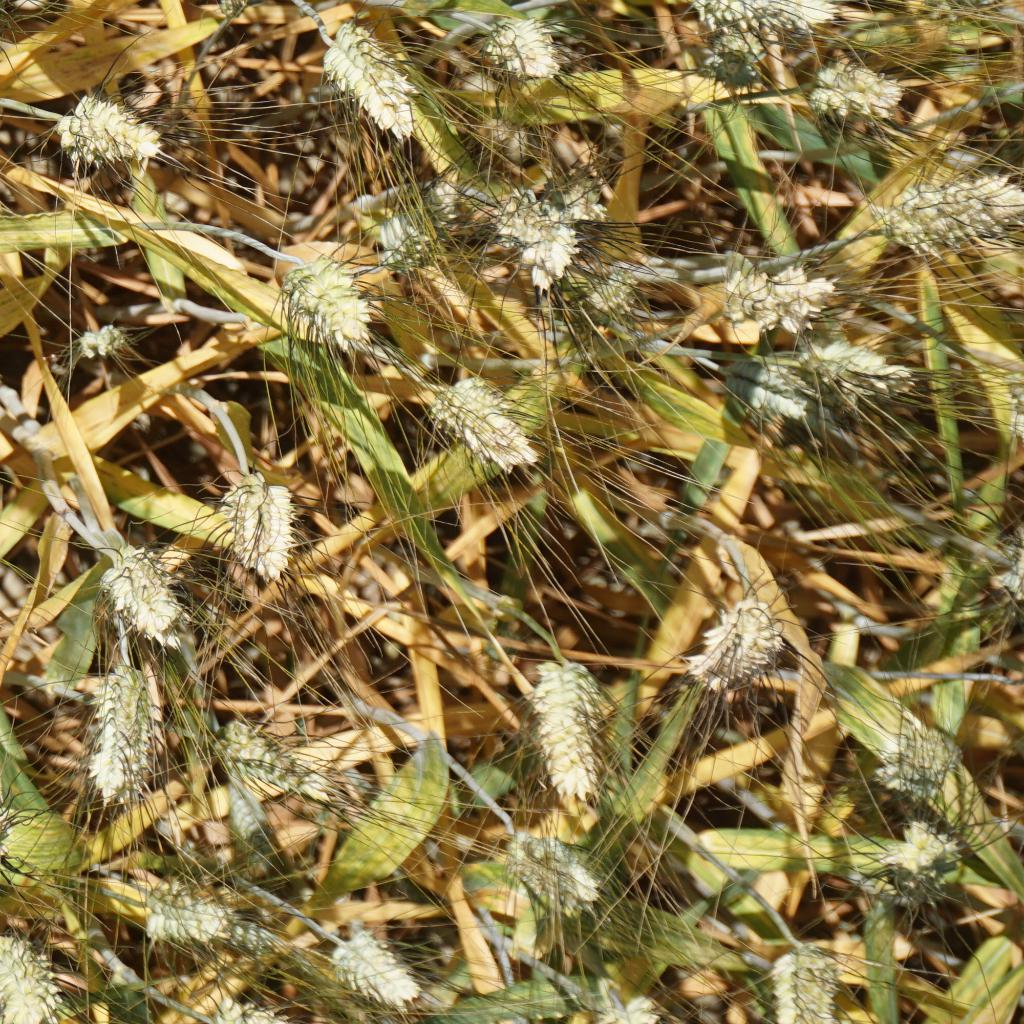0-0: (528, 634, 618, 816), (892, 166, 1024, 263), (88, 648, 170, 804), (427, 368, 541, 479), (264, 247, 389, 348), (312, 21, 418, 136), (216, 457, 305, 576), (50, 86, 163, 179), (687, 603, 792, 696), (102, 534, 186, 641), (201, 716, 304, 803), (328, 918, 431, 1001), (508, 828, 607, 914), (720, 252, 828, 324), (367, 188, 456, 274), (786, 341, 905, 402), (874, 820, 963, 901), (722, 355, 815, 428), (0, 927, 69, 1024), (766, 940, 843, 1024), (146, 880, 230, 956), (506, 190, 576, 280), (480, 9, 566, 79), (870, 729, 940, 813), (800, 62, 901, 119), (539, 162, 617, 219), (571, 252, 631, 318), (687, 0, 827, 24), (704, 25, 760, 82), (64, 312, 132, 356), (300, 762, 355, 812), (0, 783, 14, 877), (928, 0, 1009, 16), (220, 0, 275, 19), (0, 0, 12, 39)
